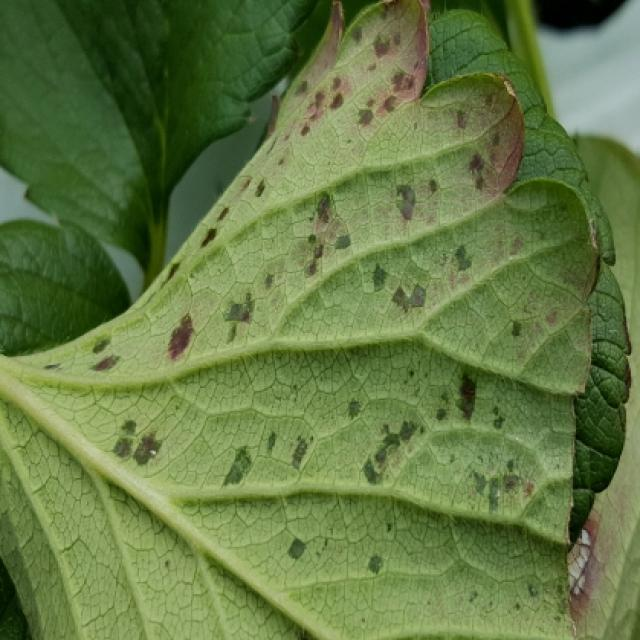Angular Leafspot: (36, 0, 604, 629), (568, 376, 638, 638)
